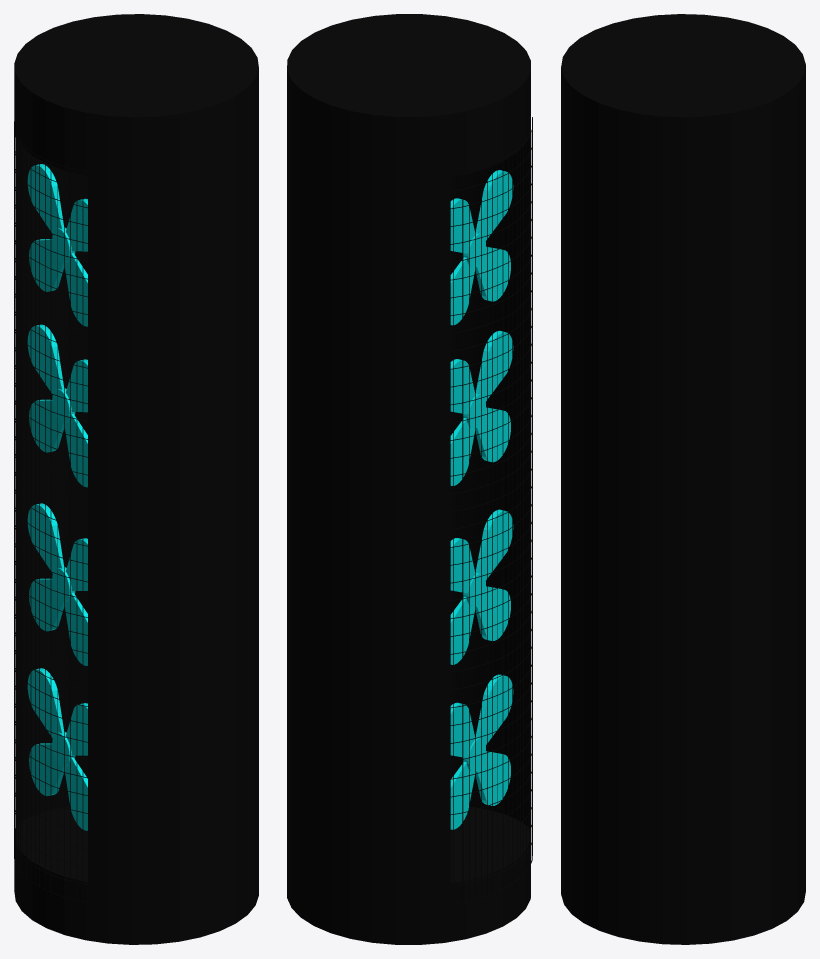
Rendered from airVaccum.fbx.
The picture shows the model from 3 angles, left to right: view 1: azimuth 30°, elevation 25°; view 2: azimuth 150°, elevation 25°; view 3: azimuth 270°, elevation 25°; orthographic projection.
Parts seen in each view (by area): view 1: Cylinder, Plane, Cylinder.001, Cylinder.002, Cylinder.004, Cylinder.003; view 2: Cylinder, Plane, Cylinder.003, Cylinder.002, Cylinder.004, Cylinder.001; view 3: Cylinder.
Part boxes in pixels (box(x1,y1,x2,y2)): Cylinder: box(14, 14, 258, 944); Plane: box(14, 121, 89, 902); Cylinder.001: box(27, 164, 87, 326); Cylinder.002: box(27, 324, 87, 487); Cylinder.004: box(27, 668, 87, 830); Cylinder.003: box(27, 503, 87, 665); Cylinder: box(287, 14, 530, 944); Plane: box(450, 117, 532, 903); Cylinder.003: box(450, 509, 513, 664); Cylinder.002: box(450, 330, 513, 485); Cylinder.004: box(450, 674, 513, 829); Cylinder.001: box(450, 170, 513, 325); Cylinder: box(561, 14, 805, 944).
Size of the model in its own units: 344 by 1276 by 342.
